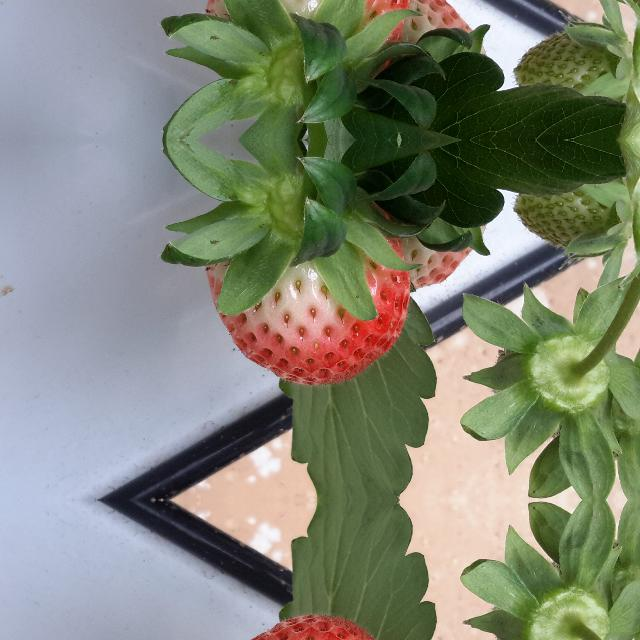Health_100: (206, 198, 412, 384), (206, 0, 411, 82)
Health_25: (512, 172, 626, 252), (512, 28, 626, 108)
